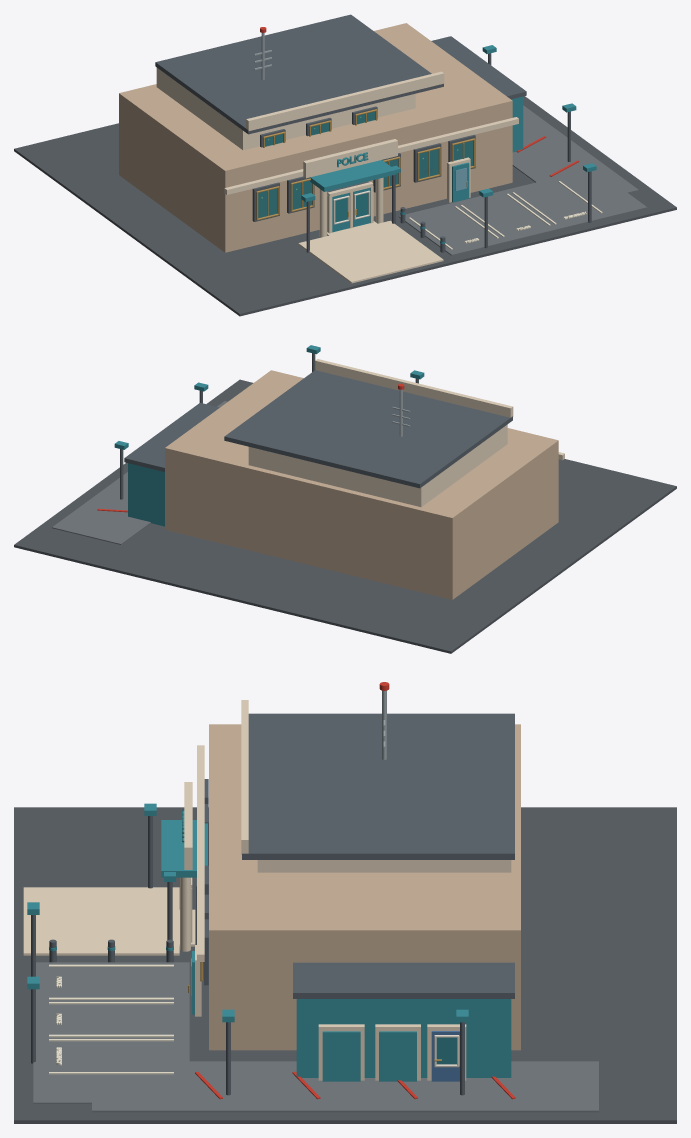
File: police_station_canon_v2.glb
3 renders of one model, top to bottom at view 1: azimuth 30°, elevation 25°; view 2: azimuth 150°, elevation 25°; view 3: azimuth 270°, elevation 25°, orthographic. The views are drawn at different scales.
Visible parts, largest first — view 1: Main_Hall, Asset_Pad, Roof_Slab, Vehicle_Apron, Public_Walk, Emergency_Egress, Admin_Upper, Roof_Parapet_Front, Front_Cornice, Police_Sign_Beam, Service_Roof, Entry_Portico (+4 smaller); view 2: Main_Hall, Asset_Pad, Roof_Slab, Admin_Upper, Emergency_Egress, Roof_Parapet_Front, Service_Wing, Service_Roof; view 3: Asset_Pad, Main_Hall, Roof_Slab, Emergency_Egress, Vehicle_Apron, Service_Wing, Public_Walk, Service_Roof, Admin_Upper, Garage_Door, Garage_Door.001, Entry_Portico (+7 smaller).
Part boxes in pixels (x1,y1,x2,y2): Main_Hall: (119, 23, 512, 252); Asset_Pad: (14, 96, 676, 316); Roof_Slab: (155, 14, 443, 134); Vehicle_Apron: (398, 170, 647, 255); Public_Walk: (298, 220, 443, 283); Emergency_Egress: (512, 105, 638, 198); Admin_Upper: (156, 67, 415, 150); Roof_Parapet_Front: (246, 71, 444, 131); Front_Cornice: (224, 117, 518, 194); Police_Sign_Beam: (303, 139, 397, 178); Service_Roof: (431, 36, 526, 99); Entry_Portico: (309, 160, 395, 191); Main_Hall: (165, 370, 558, 599); Asset_Pad: (14, 379, 676, 653); Roof_Slab: (224, 370, 512, 488); Admin_Upper: (248, 424, 507, 507); Emergency_Egress: (52, 401, 227, 544); Roof_Parapet_Front: (315, 359, 513, 417); Service_Wing: (128, 463, 164, 526); Service_Roof: (124, 403, 219, 471); Asset_Pad: (14, 807, 676, 1123); Main_Hall: (209, 724, 520, 1050); Roof_Slab: (242, 713, 514, 859); Emergency_Egress: (92, 1061, 598, 1112); Vehicle_Apron: (33, 962, 189, 1103); Service_Wing: (296, 999, 511, 1077); Public_Walk: (23, 887, 179, 955); Service_Roof: (293, 962, 514, 998); Admin_Upper: (257, 860, 511, 872); Garage_Door: (322, 1031, 360, 1081); Garage_Door.001: (379, 1031, 416, 1081); Entry_Portico: (161, 820, 207, 877).
Bounding box in the file's own units: 38 × 13.24 × 34.
